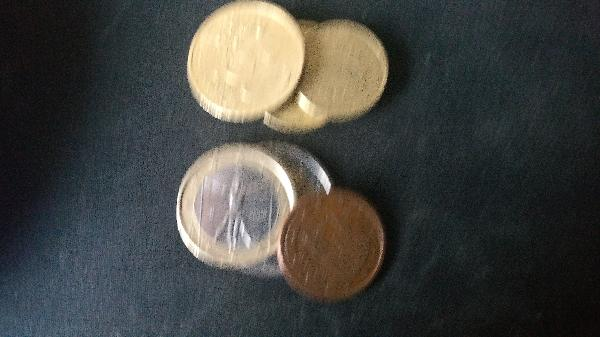Fifty Cent: (183, 1, 306, 122)
Five Cent: (280, 190, 389, 301)
One Euro: (175, 147, 306, 275)
Ten Cent: (301, 20, 389, 121)
